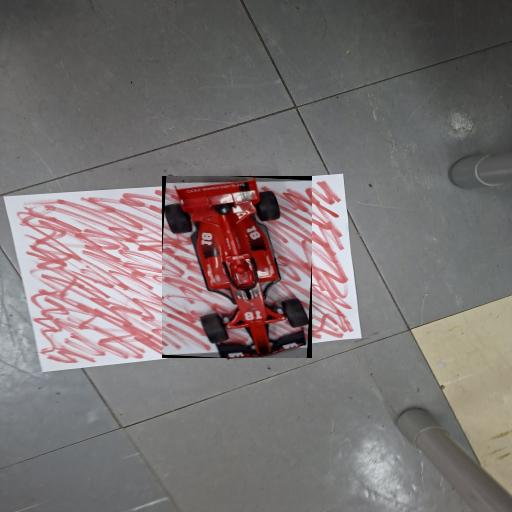carro: (161, 178, 310, 358)
